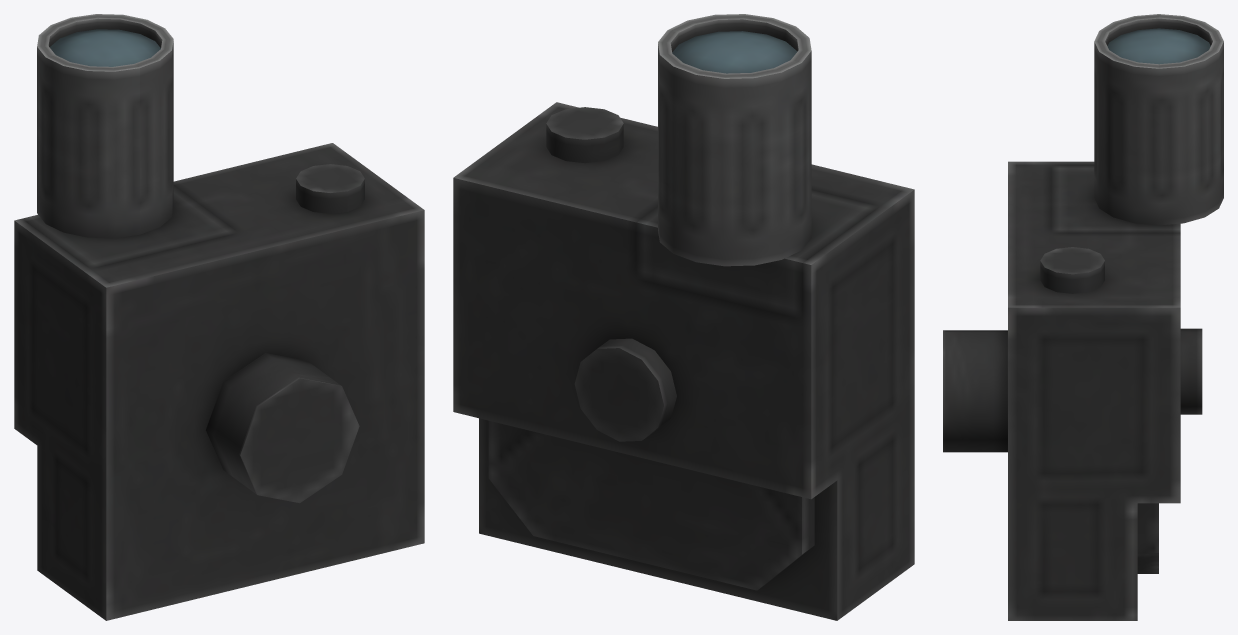
The model's file is 4mv_sensor_camera_s0_1_compact.obj.
3 views of the same model, side by side, from view 1: azimuth 30°, elevation 25°; view 2: azimuth 150°, elevation 25°; view 3: azimuth 270°, elevation 25° (orthographic). The views are drawn at different scales.
Visible parts, largest first — view 1: mesh1, lense1; view 2: mesh1, lense1; view 3: mesh1, lense1.
Part boxes in pixels (left/top/right/bottom): mesh1: left=14, top=14, right=424, bottom=620; lense1: left=50, top=29, right=160, bottom=66; mesh1: left=453, top=14, right=914, bottom=620; lense1: left=672, top=31, right=797, bottom=73; mesh1: left=943, top=14, right=1223, bottom=620; lense1: left=1107, top=28, right=1210, bottom=64.
Size of the model in its own units: 0.2 by 0.3 by 0.1625.
Materials: 1 (1 with a texture image).
